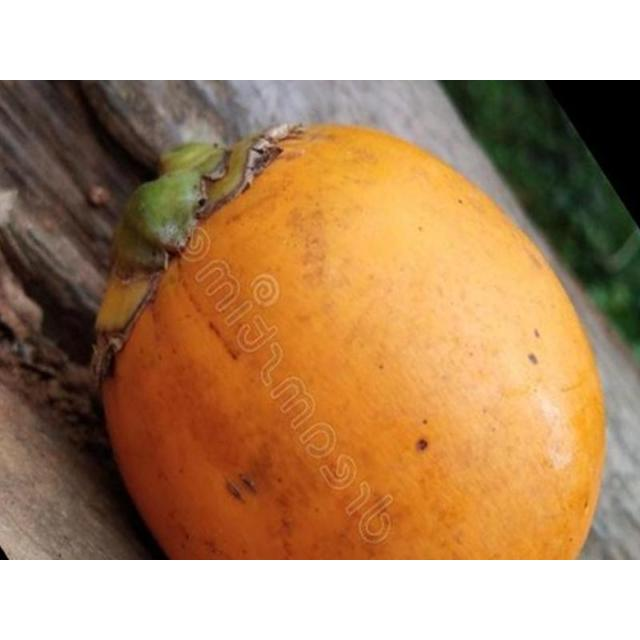good: (94, 124, 610, 559)
